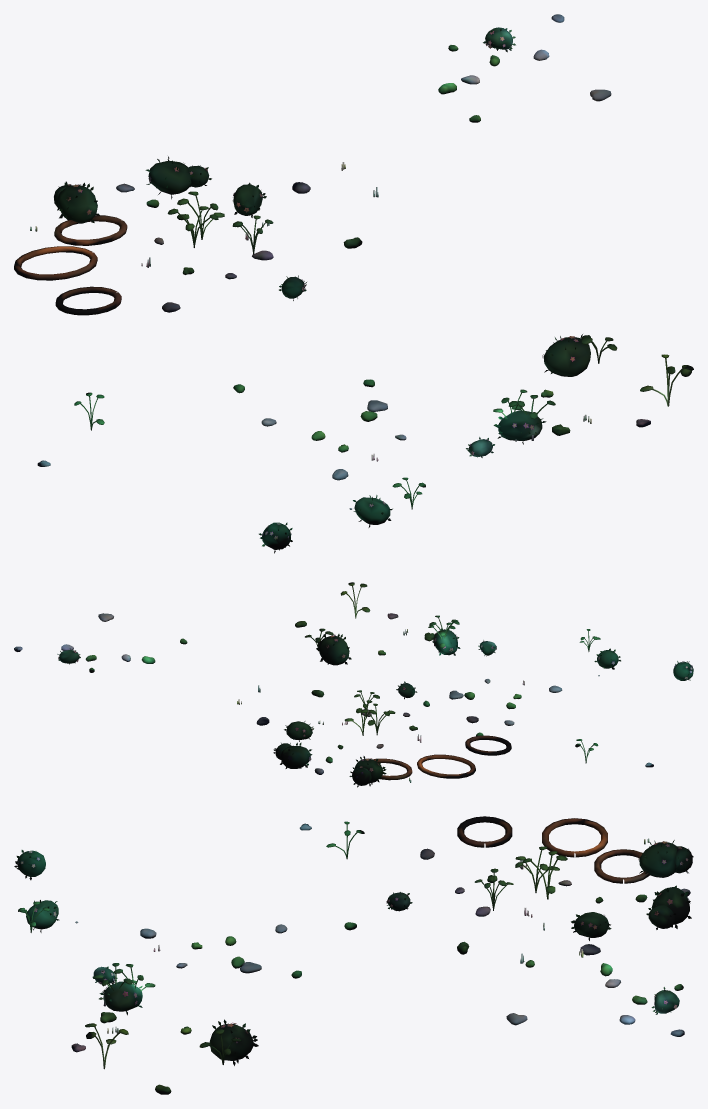
The model's file is prp_cave_flora_a_lite.glb.
The picture shows the model from 3 angles, top to bottom: view 1: azimuth 30°, elevation 25°; view 2: azimuth 150°, elevation 25°; view 3: azimuth 270°, elevation 25°; orthographic projection. The views are drawn at different scales.
Visible parts, largest first — view 1: INST_prp_cave_flora_a_lite_flora; view 2: INST_prp_cave_flora_a_lite_flora; view 3: INST_prp_cave_flora_a_lite_flora.
Part boxes in pixels (bbox=[...]): INST_prp_cave_flora_a_lite_flora: bbox=[14, 14, 693, 553]; INST_prp_cave_flora_a_lite_flora: bbox=[14, 582, 693, 787]; INST_prp_cave_flora_a_lite_flora: bbox=[14, 816, 693, 1094].
Bounding box in the file's own units: 42.99 × 8.94 × 36.29.
